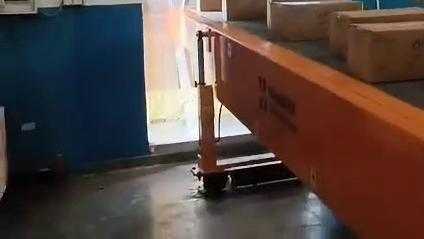box: (346, 21, 424, 83), (330, 7, 424, 58), (267, 0, 362, 41), (223, 0, 268, 19)
